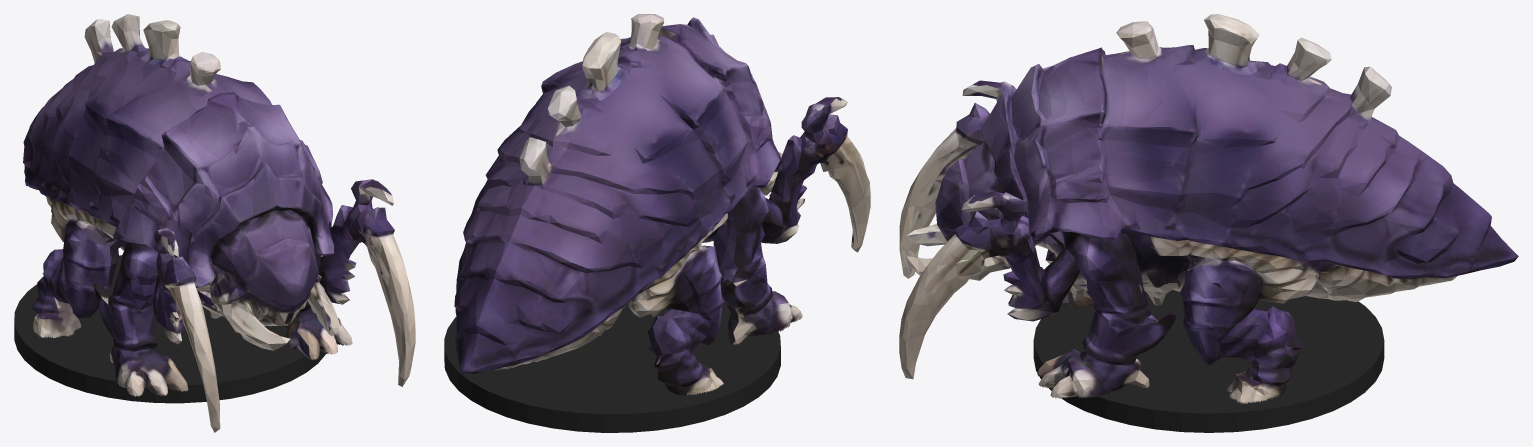
Rendered from roach.glb.
The picture shows the model from 3 angles, left to right: view 1: azimuth 30°, elevation 25°; view 2: azimuth 150°, elevation 25°; view 3: azimuth 270°, elevation 25°; orthographic projection. The views are drawn at different scales.
Visible parts, largest first — view 1: figure, base; view 2: figure, base; view 3: figure, base.
Boxes of the visible parts, x1,y1,x2,y2 form: figure: (23, 14, 415, 432); base: (14, 255, 326, 403); figure: (454, 14, 870, 395); base: (444, 301, 780, 432); figure: (899, 14, 1518, 403); base: (1033, 289, 1384, 432).
Bounding box in the file's own units: 1.97 × 2.12 × 3.48.
2 materials, 1 textured.
